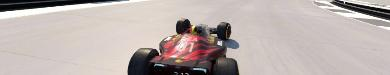Car: (126, 18, 239, 74)
Solid White and black: (329, 0, 389, 27)
obstacles-Borders: (0, 0, 130, 12)
